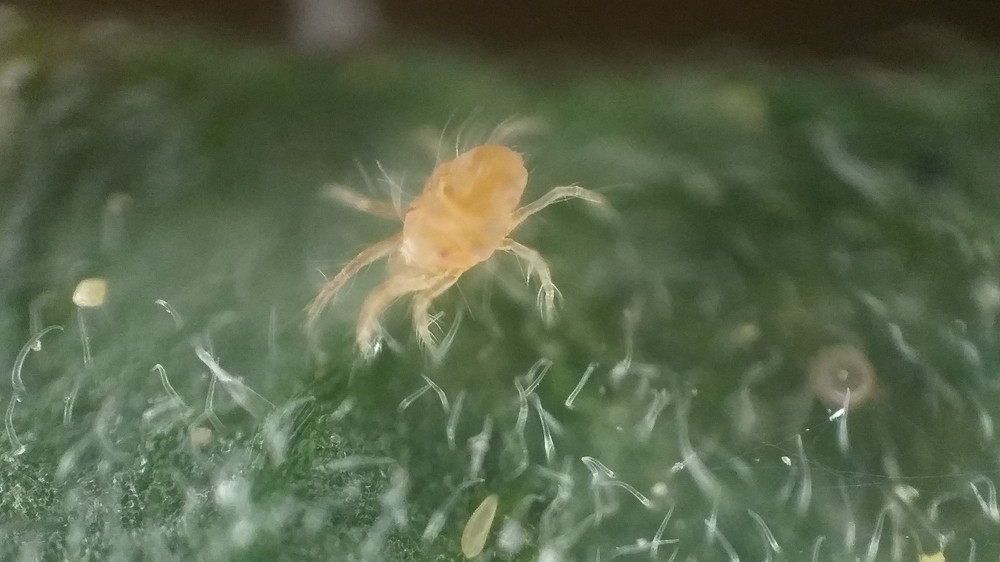Aracnido Rojo: (291, 98, 631, 374)
